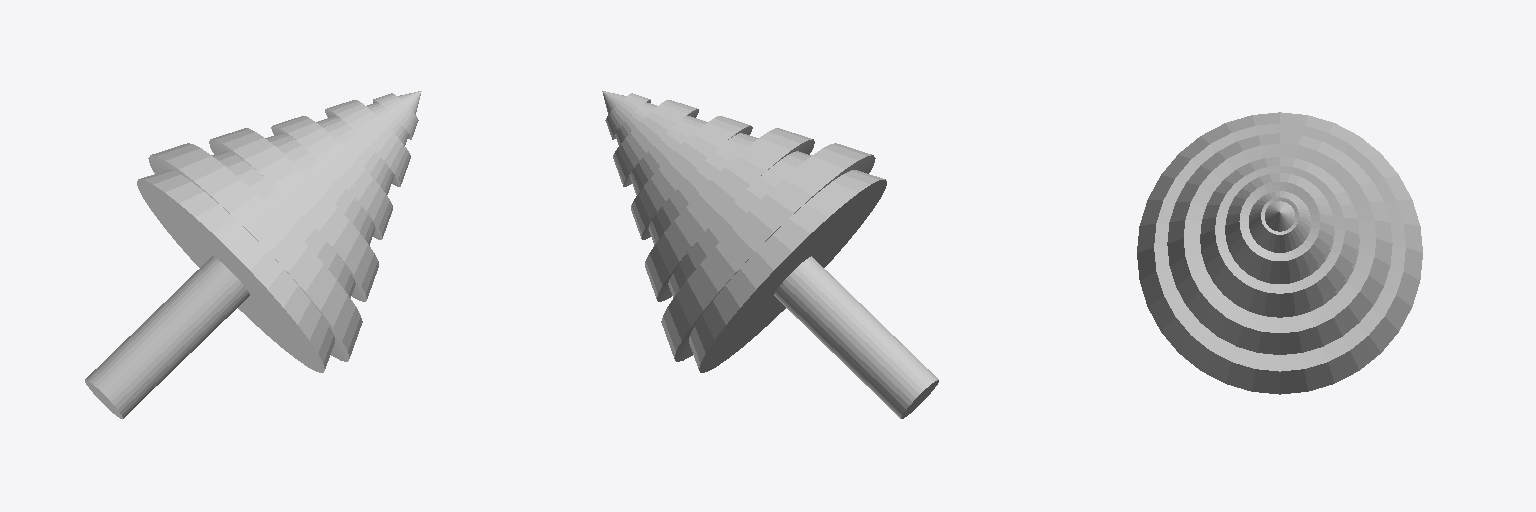
The model's file is drill.obj.
3 renders of one model, left to right at view 1: azimuth 30°, elevation 25°; view 2: azimuth 150°, elevation 25°; view 3: azimuth 270°, elevation 25°, orthographic.
Parts seen in each view (by area): view 1: drill; view 2: drill; view 3: drill.
Boxes of the visible parts, <box> form: drill: <box>85,91,421,418</box>; drill: <box>602,91,938,418</box>; drill: <box>1137,112,1422,394</box>.
Size of the model in its own units: 2.85 by 2.09 by 2.14.